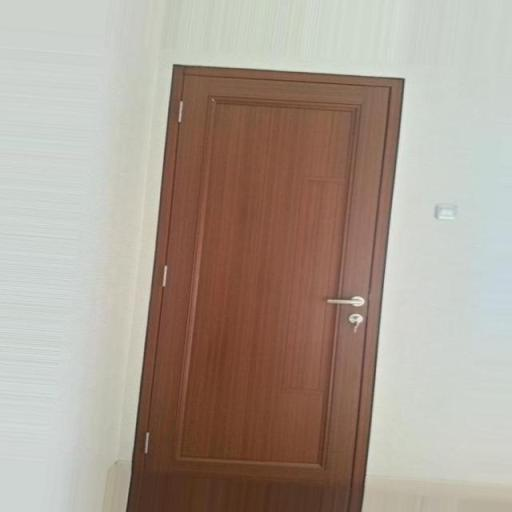door: (124, 64, 404, 510)
